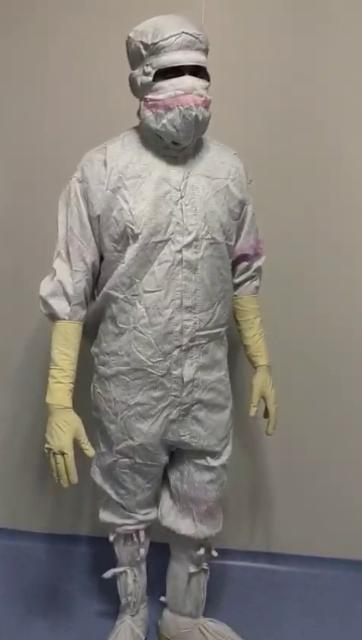boot_secured: (77, 488, 157, 640), (159, 490, 238, 640)
gloves_fitted_securely: (33, 306, 110, 488), (224, 280, 296, 464)
headgear_secured: (128, 6, 222, 150)
zip_secured: (156, 148, 202, 424)
